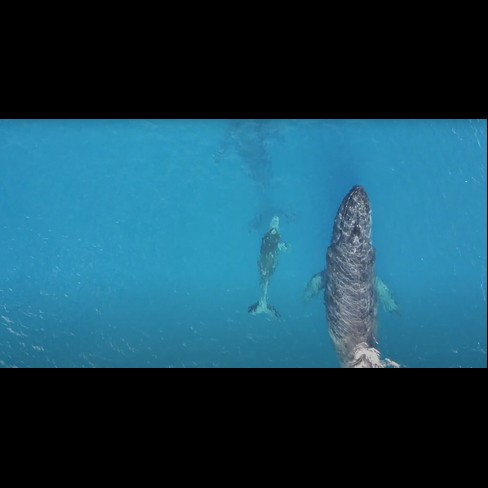hump: (301, 182, 399, 368), (239, 211, 288, 322)
